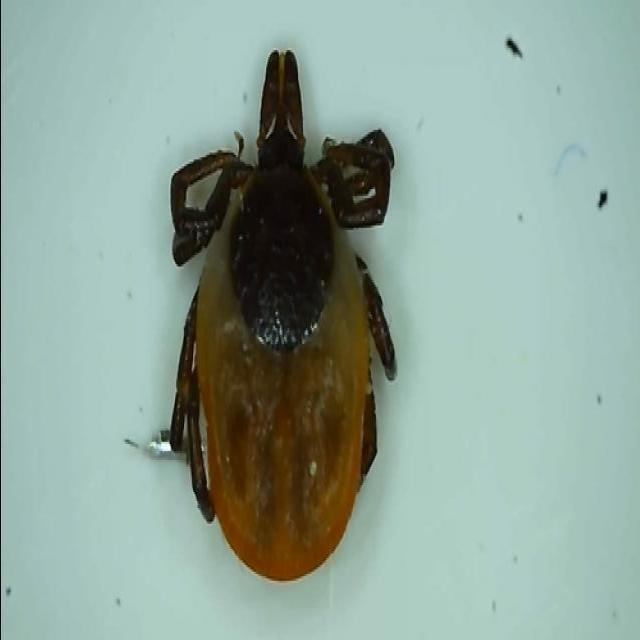Ixodes Ricinus-F-Fed: (163, 48, 394, 585)
